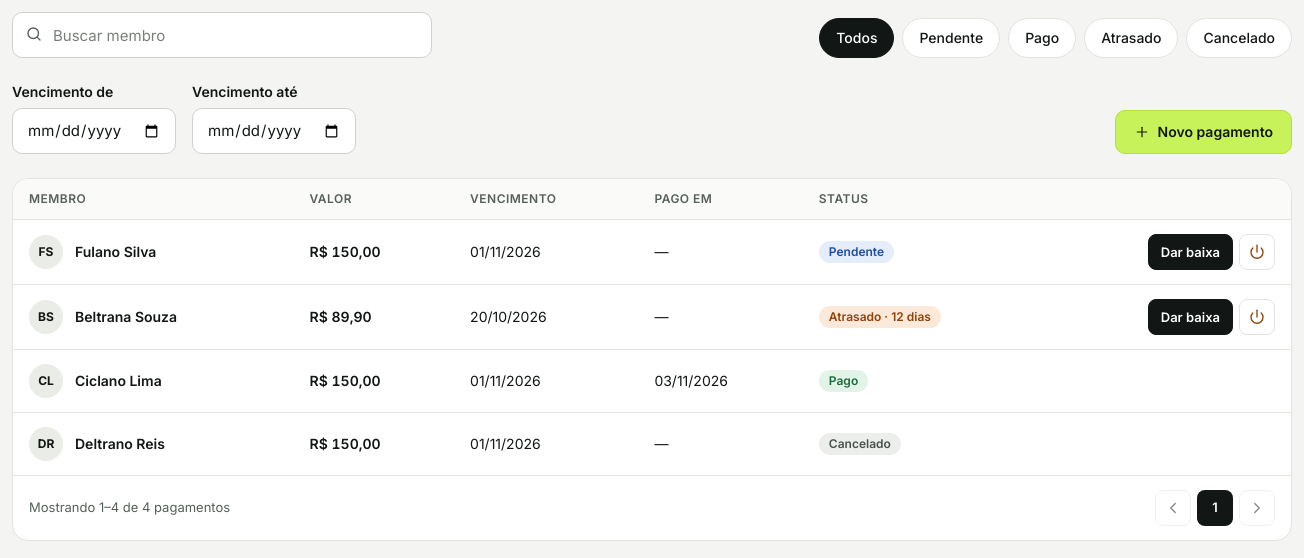
Test case: TelaPagamentos › tira a tabela antiga quando a lista falha depois de um filtro
The width and height of the screenshot is (1304, 558).
Check: the text "Fulano Silva" is shown, box [75,242,156,262]
Click the button "Pago" at (1042, 38), box [1008,18,1076,58]
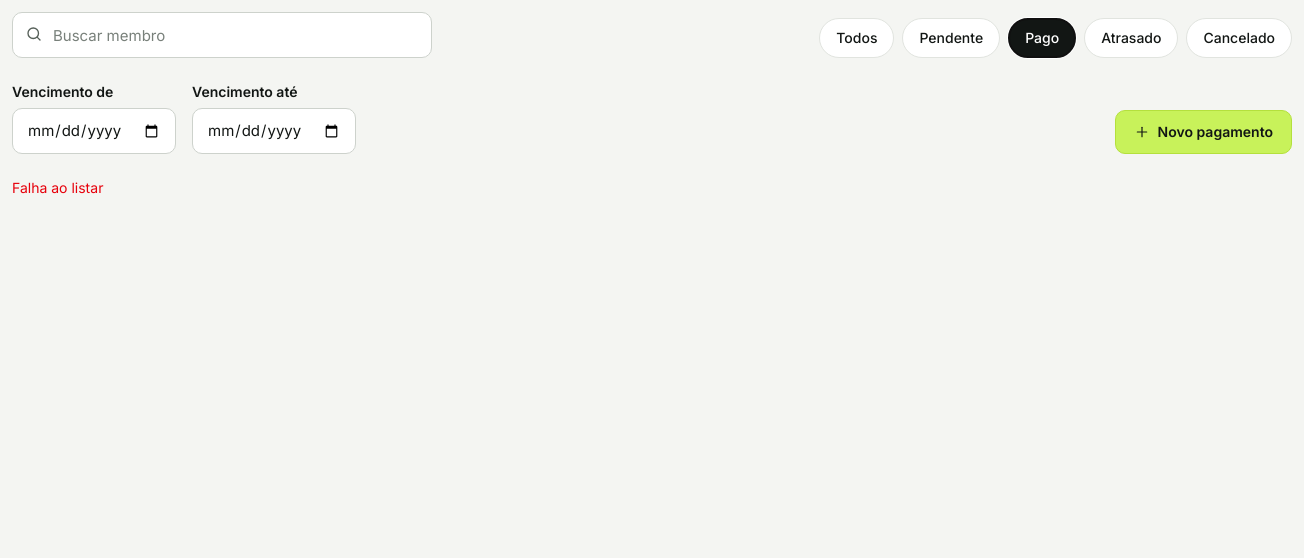
Check: the message reads "Falha ao listar", box [12,179,103,196]
Check: the text "Fulano Silva" is gone
